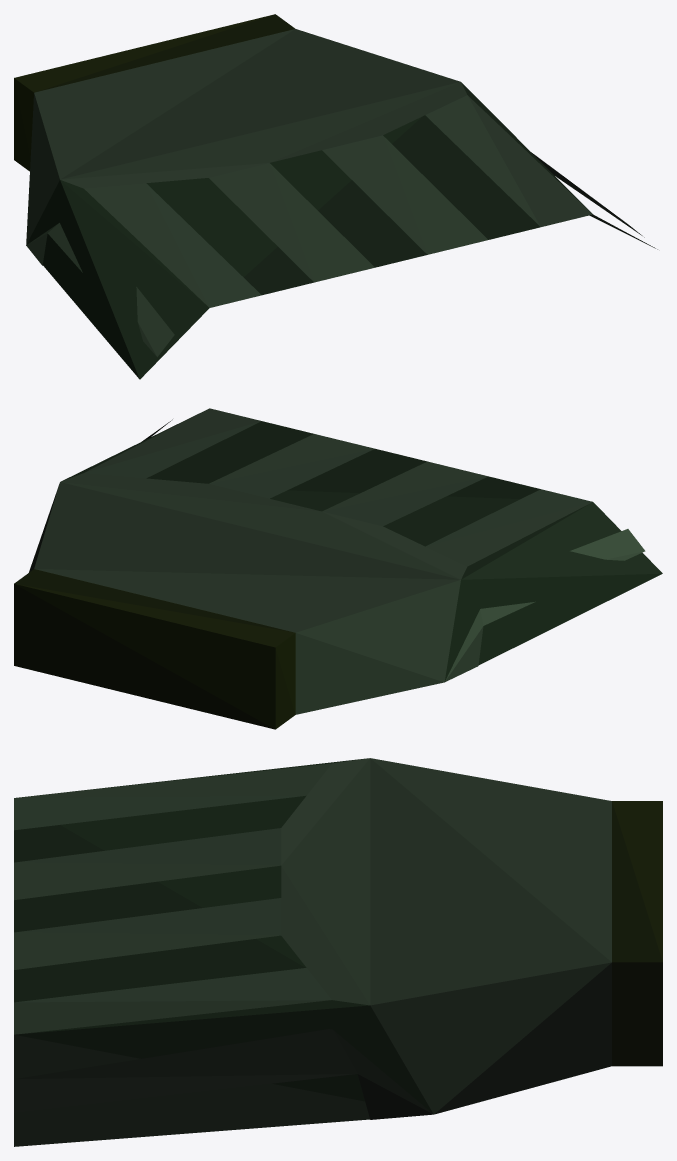
Rendered from adamant-plateskirt.obj.
3 renders of one model, top to bottom at view 1: azimuth 30°, elevation 25°; view 2: azimuth 150°, elevation 25°; view 3: azimuth 270°, elevation 25°, orthographic. The views are drawn at different scales.
Visible parts, largest first — view 1: Item Adamant plateskirt 2026-09-24_18-15-35; view 2: Item Adamant plateskirt 2026-09-24_18-15-35; view 3: Item Adamant plateskirt 2026-09-24_18-15-35.
Part boxes in pixels (<box>): Item Adamant plateskirt 2026-09-24_18-15-35: <box>14,14,657,379</box>; Item Adamant plateskirt 2026-09-24_18-15-35: <box>14,408,662,729</box>; Item Adamant plateskirt 2026-09-24_18-15-35: <box>14,758,662,1146</box>.
Size of the model in its own units: 60 by 9 by 51.
